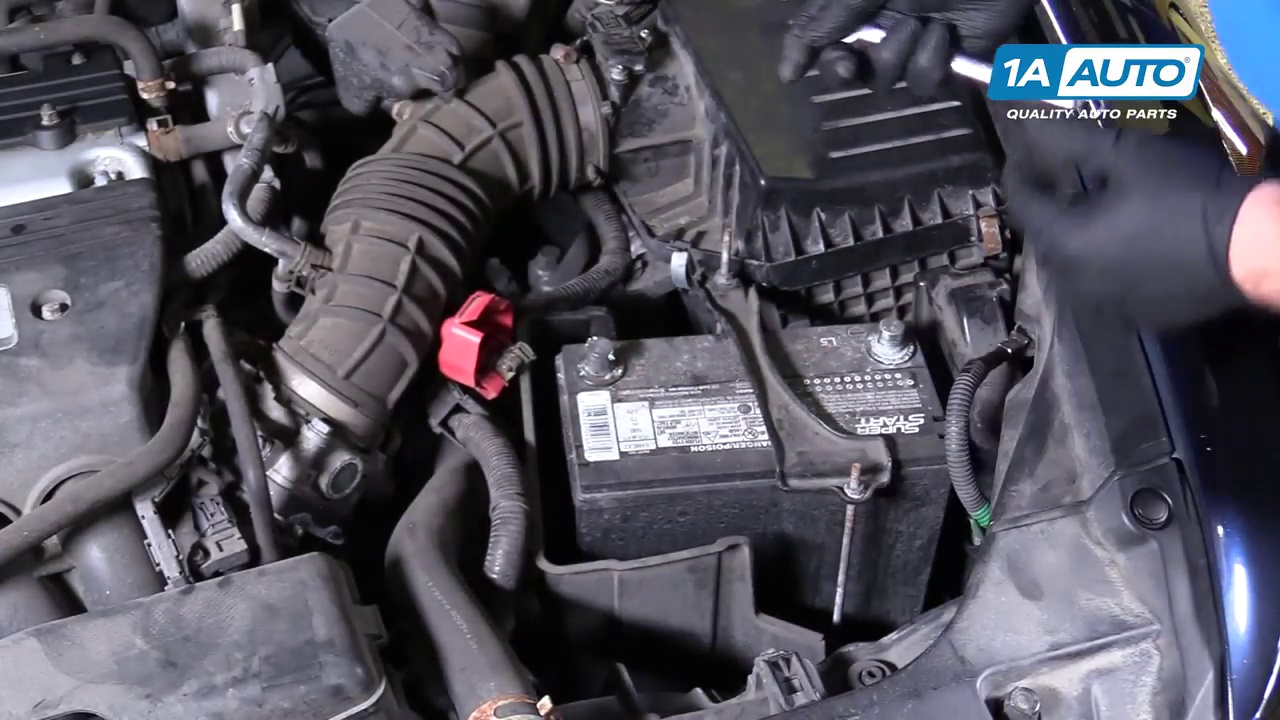battery: (534, 321, 950, 477)
neg_disconnected: (842, 292, 931, 363)
pos_disconnected: (444, 293, 648, 420)
